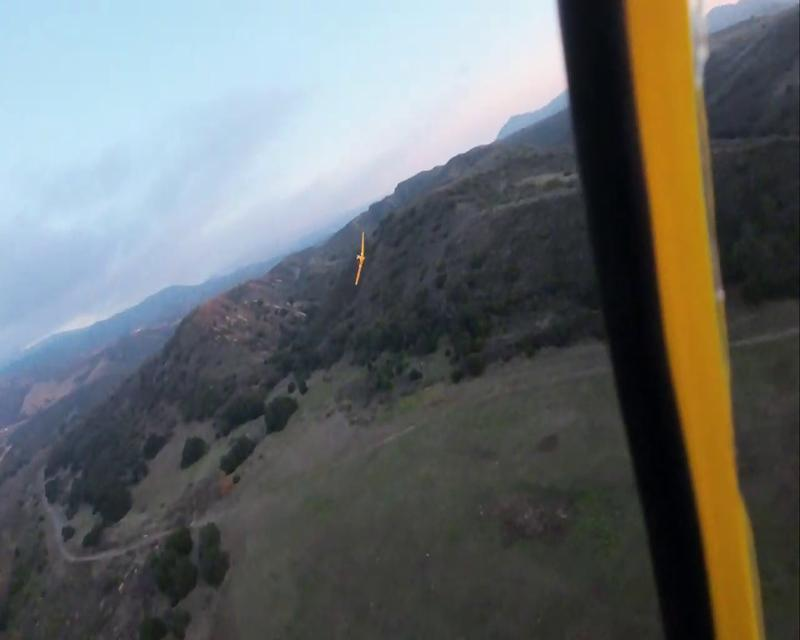UAV: (354, 232, 366, 286)
